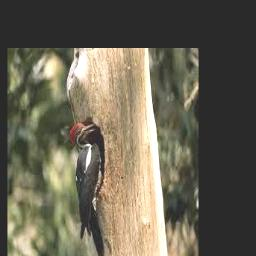Woodpecker: (69, 122, 106, 256)
